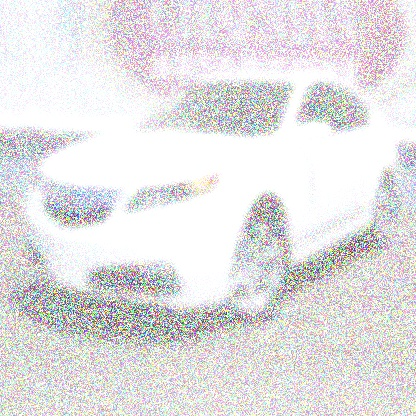Vehicle: (21, 75, 401, 328)
